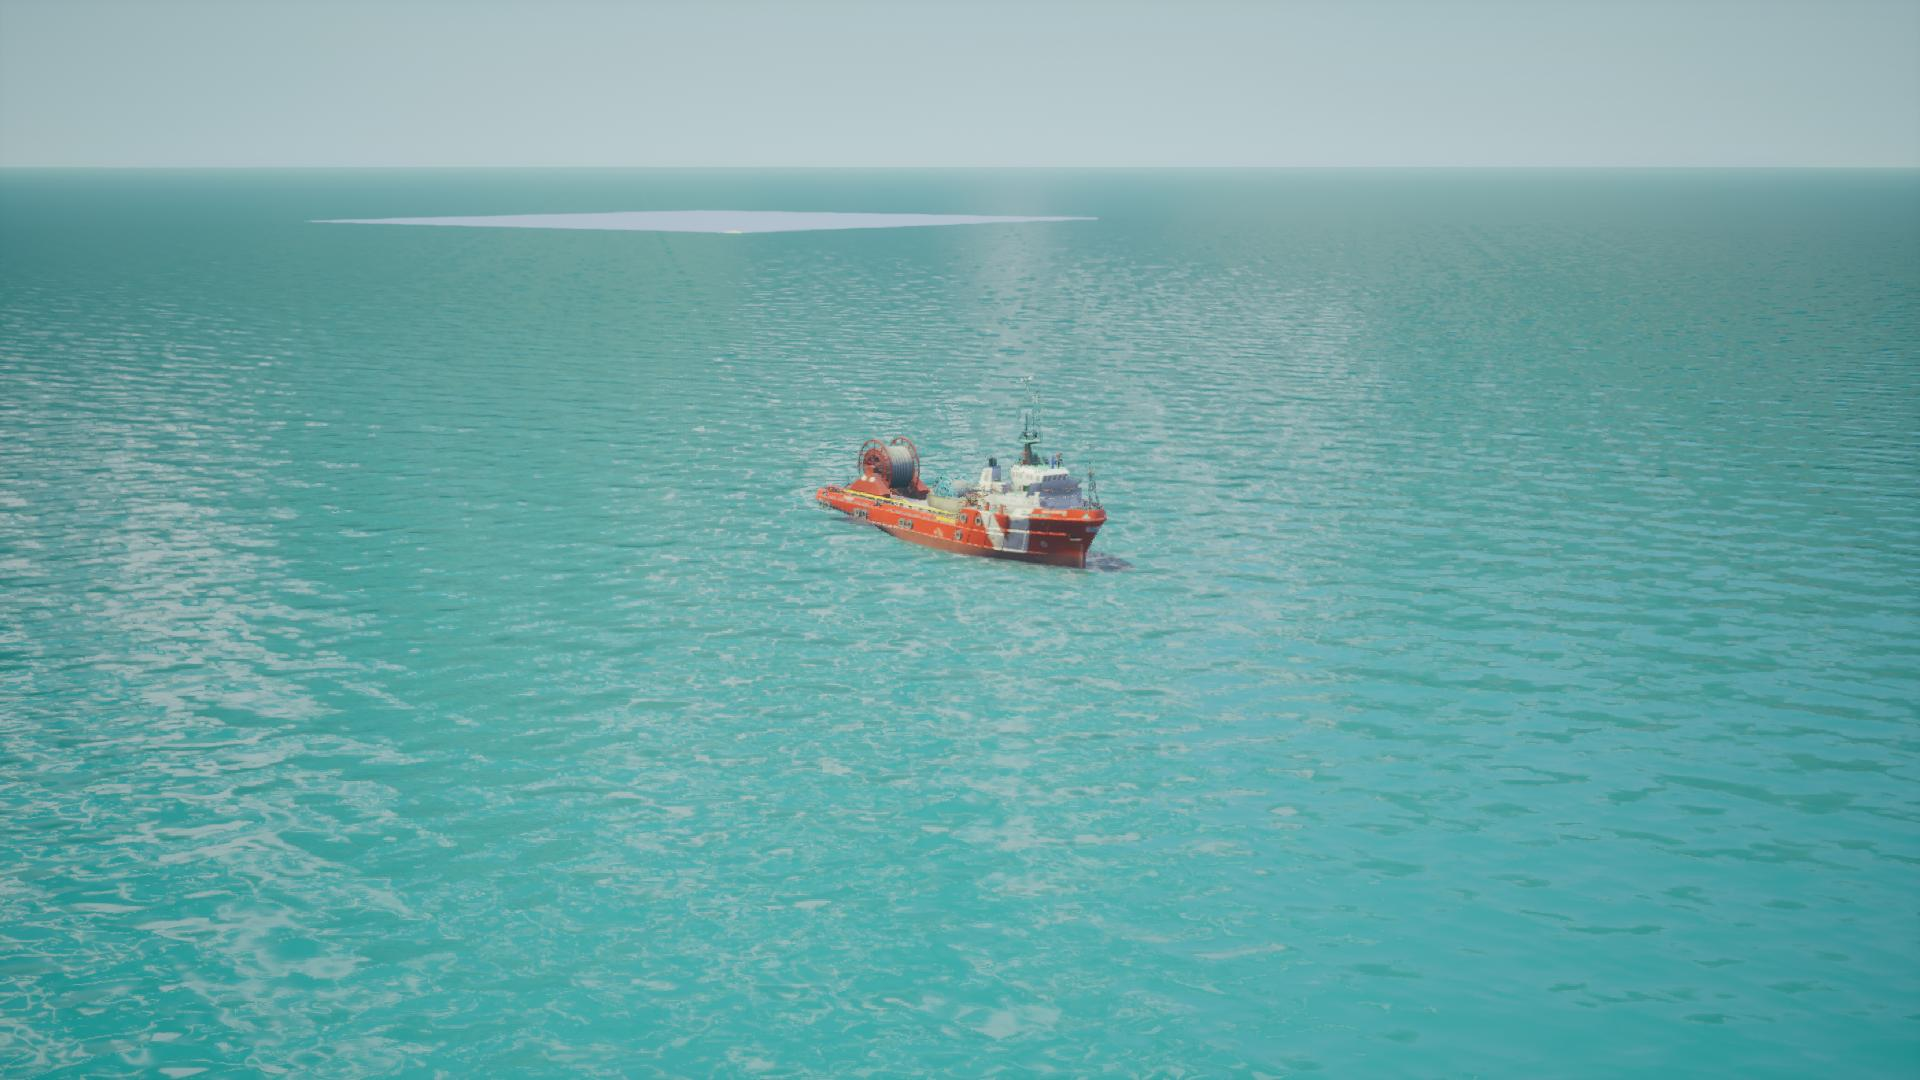Tug Boat: (816, 431, 1114, 568)
